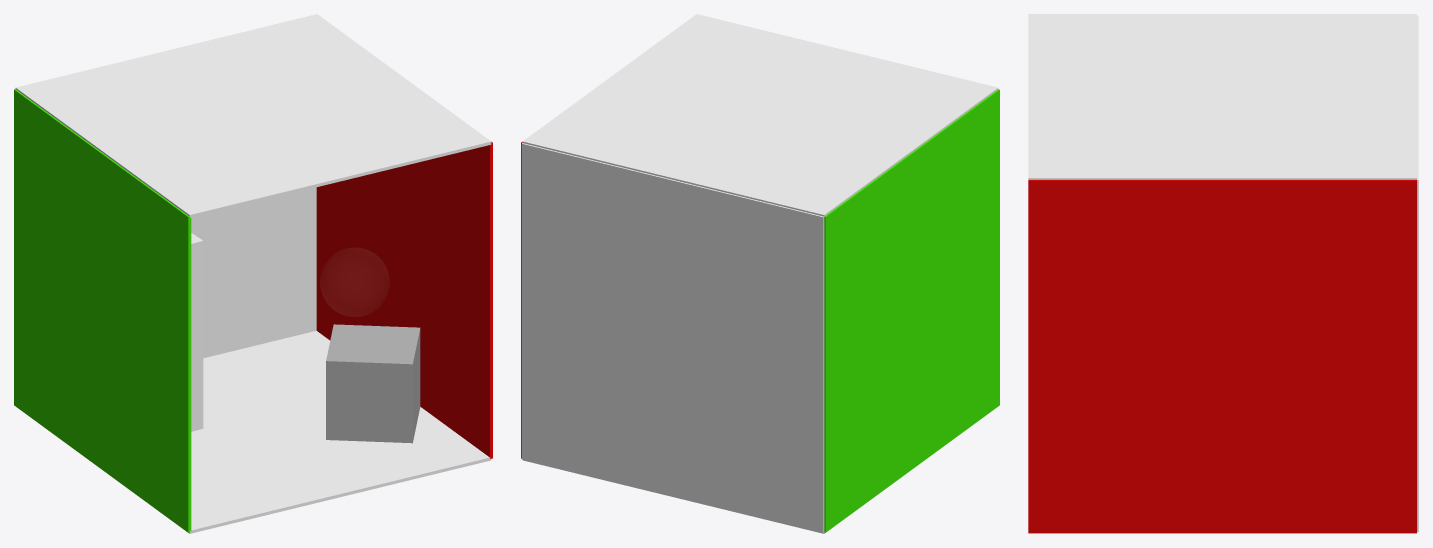
Rendered from cornellBoxWithPunctualLightsDoesNotWorkRight.gltf.
3 renders of one model, left to right at view 1: azimuth 30°, elevation 25°; view 2: azimuth 150°, elevation 25°; view 3: azimuth 270°, elevation 25°, orthographic. The views are drawn at different scales.
Parts seen in each view (by area): view 1: cube_instance_5, cube_instance_3, cube_instance_6, cube_instance_2, cube_instance, cube_instance_14, cube_instance_16; view 2: cube_instance, cube_instance_5, cube_instance_3; view 3: cube_instance_6, cube_instance_3, cube_instance.
Part boxes in pixels (x1,y1,x2,y2): cube_instance_5: [14, 89, 191, 532]; cube_instance_3: [15, 14, 491, 217]; cube_instance_6: [316, 142, 492, 458]; cube_instance_2: [21, 331, 491, 533]; cube_instance: [15, 88, 316, 358]; cube_instance_14: [326, 324, 420, 443]; cube_instance_16: [191, 233, 203, 431]; cube_instance: [521, 143, 824, 532]; cube_instance_5: [824, 89, 999, 532]; cube_instance_3: [522, 14, 998, 216]; cube_instance_6: [1028, 180, 1416, 532]; cube_instance_3: [1028, 14, 1416, 179]; cube_instance: [1417, 15, 1418, 532].
Size of the model in its own units: 10.1 by 10.1 by 10.05.
